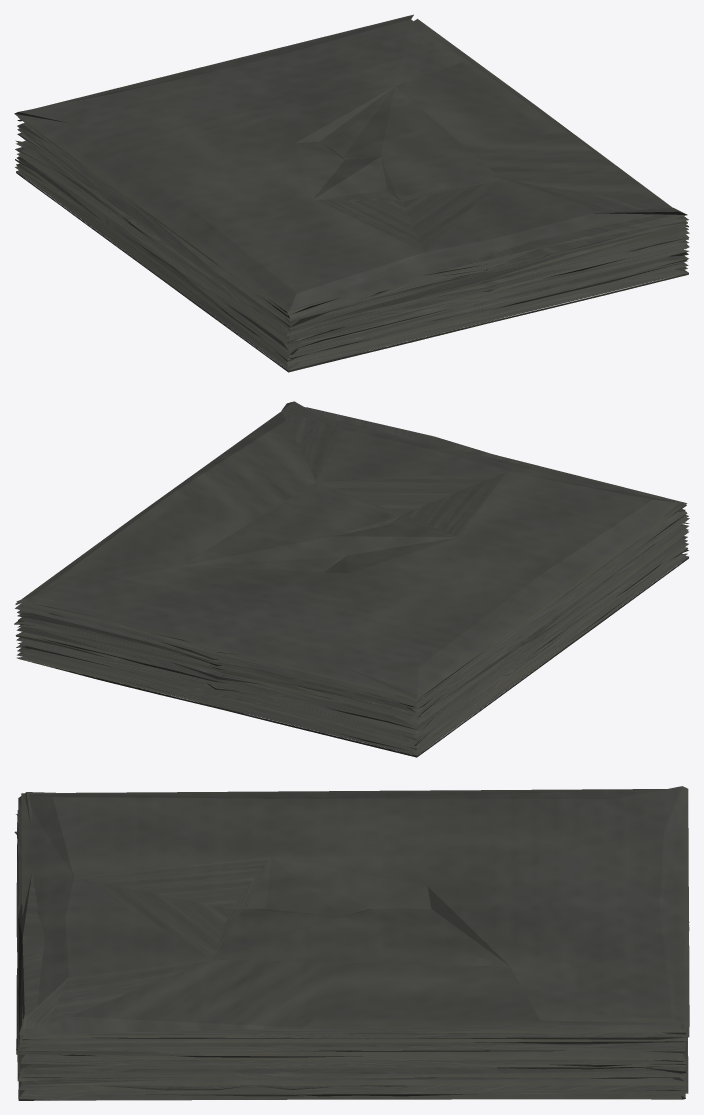
Rendered from consumable_absorbent_pad_stack_a01.glb.
3 views of the same model, one above another, from view 1: azimuth 30°, elevation 25°; view 2: azimuth 150°, elevation 25°; view 3: azimuth 270°, elevation 25° (orthographic). The views are drawn at different scales.
Parts seen in each view (by area): view 1: geometry_0; view 2: geometry_0; view 3: geometry_0.
Part boxes in pixels (x1=…): geometry_0: x1=14, y1=14, x2=689, y2=372; geometry_0: x1=14, y1=401, x2=689, y2=757; geometry_0: x1=14, y1=786, x2=689, y2=1100.
Size of the model in its own units: 0.3582 by 0.0557 by 0.42.
1 material, 1 textured.
